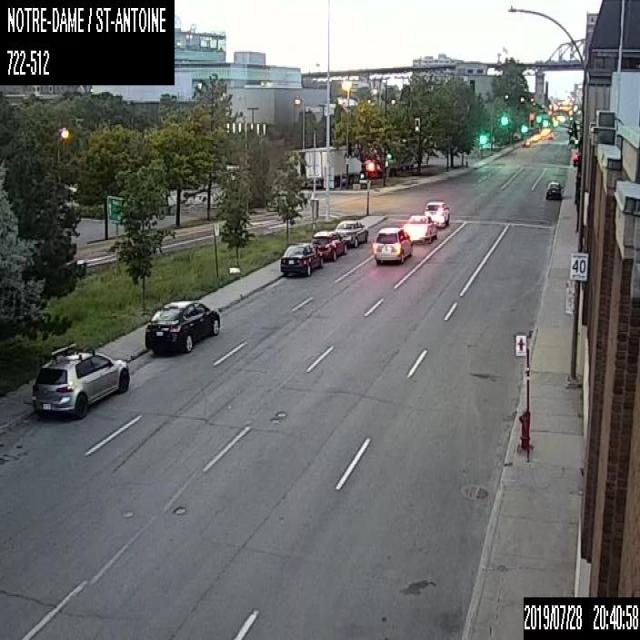vehicle: (29, 347, 131, 420), (144, 297, 220, 355), (372, 227, 412, 265), (280, 242, 322, 277), (311, 229, 347, 260), (402, 214, 436, 243), (334, 218, 368, 246), (423, 199, 449, 227), (545, 180, 562, 198)
